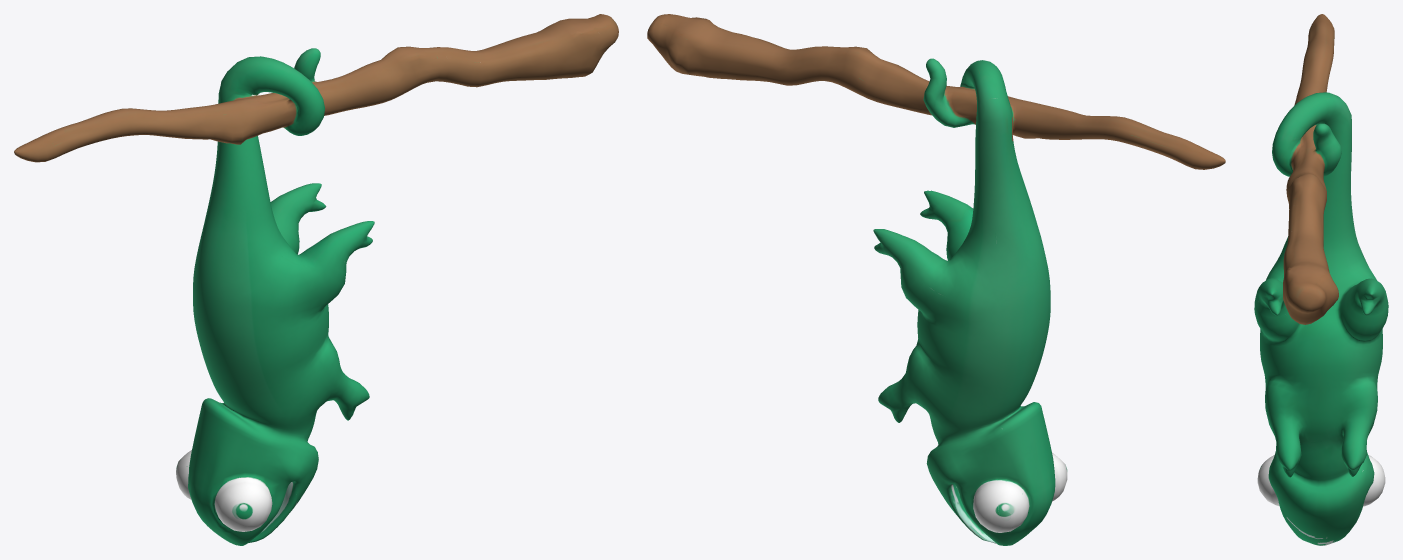
File: geeko-branch.glb
3 renders of one model, left to right at view 1: azimuth 30°, elevation 25°; view 2: azimuth 150°, elevation 25°; view 3: azimuth 270°, elevation 25°, orthographic. The views are drawn at different scales.
Visible parts, largest first — view 1: Meshy_AI_Branch_Hanging_Chamel_0827120903_texture; view 2: Meshy_AI_Branch_Hanging_Chamel_0827120903_texture; view 3: Meshy_AI_Branch_Hanging_Chamel_0827120903_texture.
Part boxes in pixels (x1,y1,x2,y2): Meshy_AI_Branch_Hanging_Chamel_0827120903_texture: (14, 14, 618, 545); Meshy_AI_Branch_Hanging_Chamel_0827120903_texture: (647, 14, 1225, 545); Meshy_AI_Branch_Hanging_Chamel_0827120903_texture: (1254, 14, 1388, 545).
Size of the model in its own units: 1.89 by 1.47 by 0.3901.
Materials: 1 (1 with a texture image).
